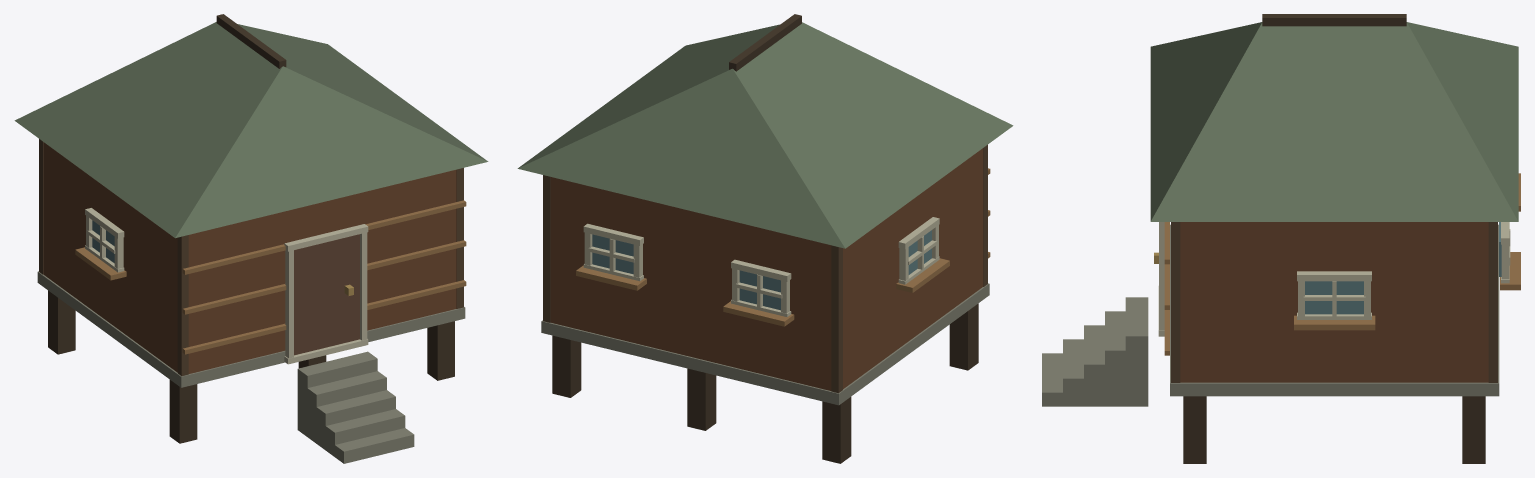
The model's file is Building_Settlement_RaisedGranary_001.glb.
3 renders of one model, left to right at view 1: azimuth 30°, elevation 25°; view 2: azimuth 150°, elevation 25°; view 3: azimuth 270°, elevation 25°, orthographic. The views are drawn at different scales.
Visible parts, largest first — view 1: Building_Settlement_RaisedGranary_001; view 2: Building_Settlement_RaisedGranary_001; view 3: Building_Settlement_RaisedGranary_001.
Part boxes in pixels (bbox=[...]): Building_Settlement_RaisedGranary_001: bbox=[14, 14, 488, 463]; Building_Settlement_RaisedGranary_001: bbox=[517, 14, 1013, 463]; Building_Settlement_RaisedGranary_001: bbox=[1042, 14, 1520, 463].
Bounding box in the file's own units: 5.41 × 5.28 × 6.18.
